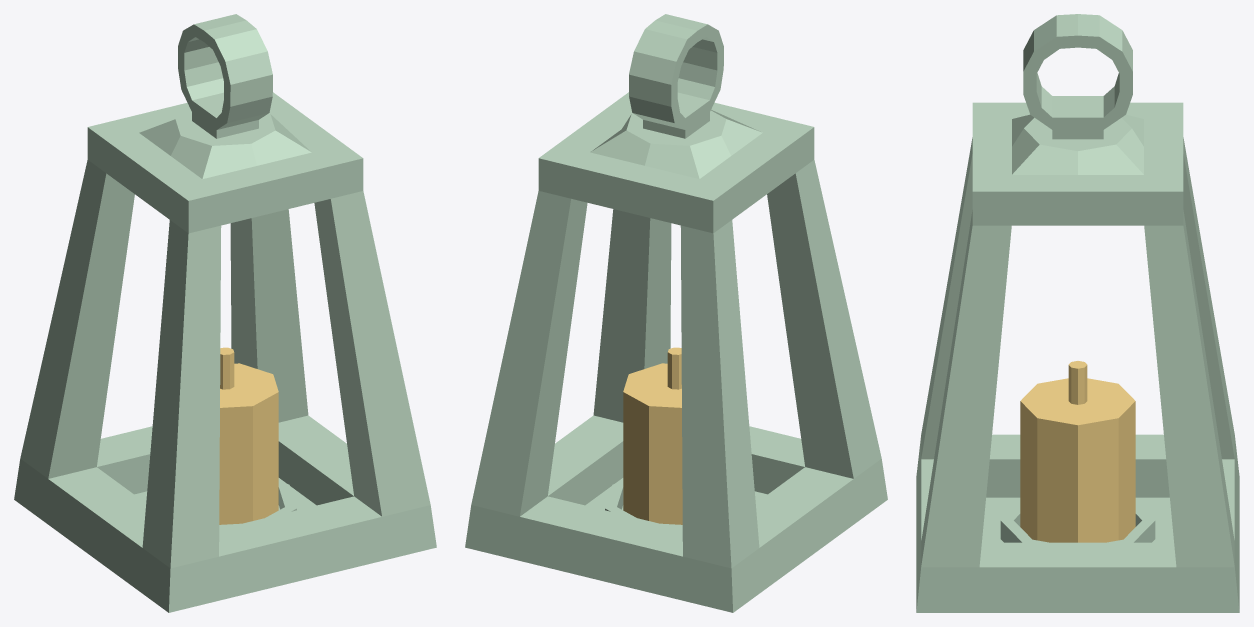
File: Candle.fbx
3 renders of one model, left to right at view 1: azimuth 30°, elevation 25°; view 2: azimuth 150°, elevation 25°; view 3: azimuth 270°, elevation 25°, orthographic. The views are drawn at different scales.
Visible parts, largest first — view 1: Candle; view 2: Candle; view 3: Candle.
Part boxes in pixels (x1,y1,x2,y2): Candle: (14,14,436,612); Candle: (465,14,887,612); Candle: (916,14,1239,612).
Bounding box in the file's own units: 0.4413 × 0.7833 × 0.4413.
